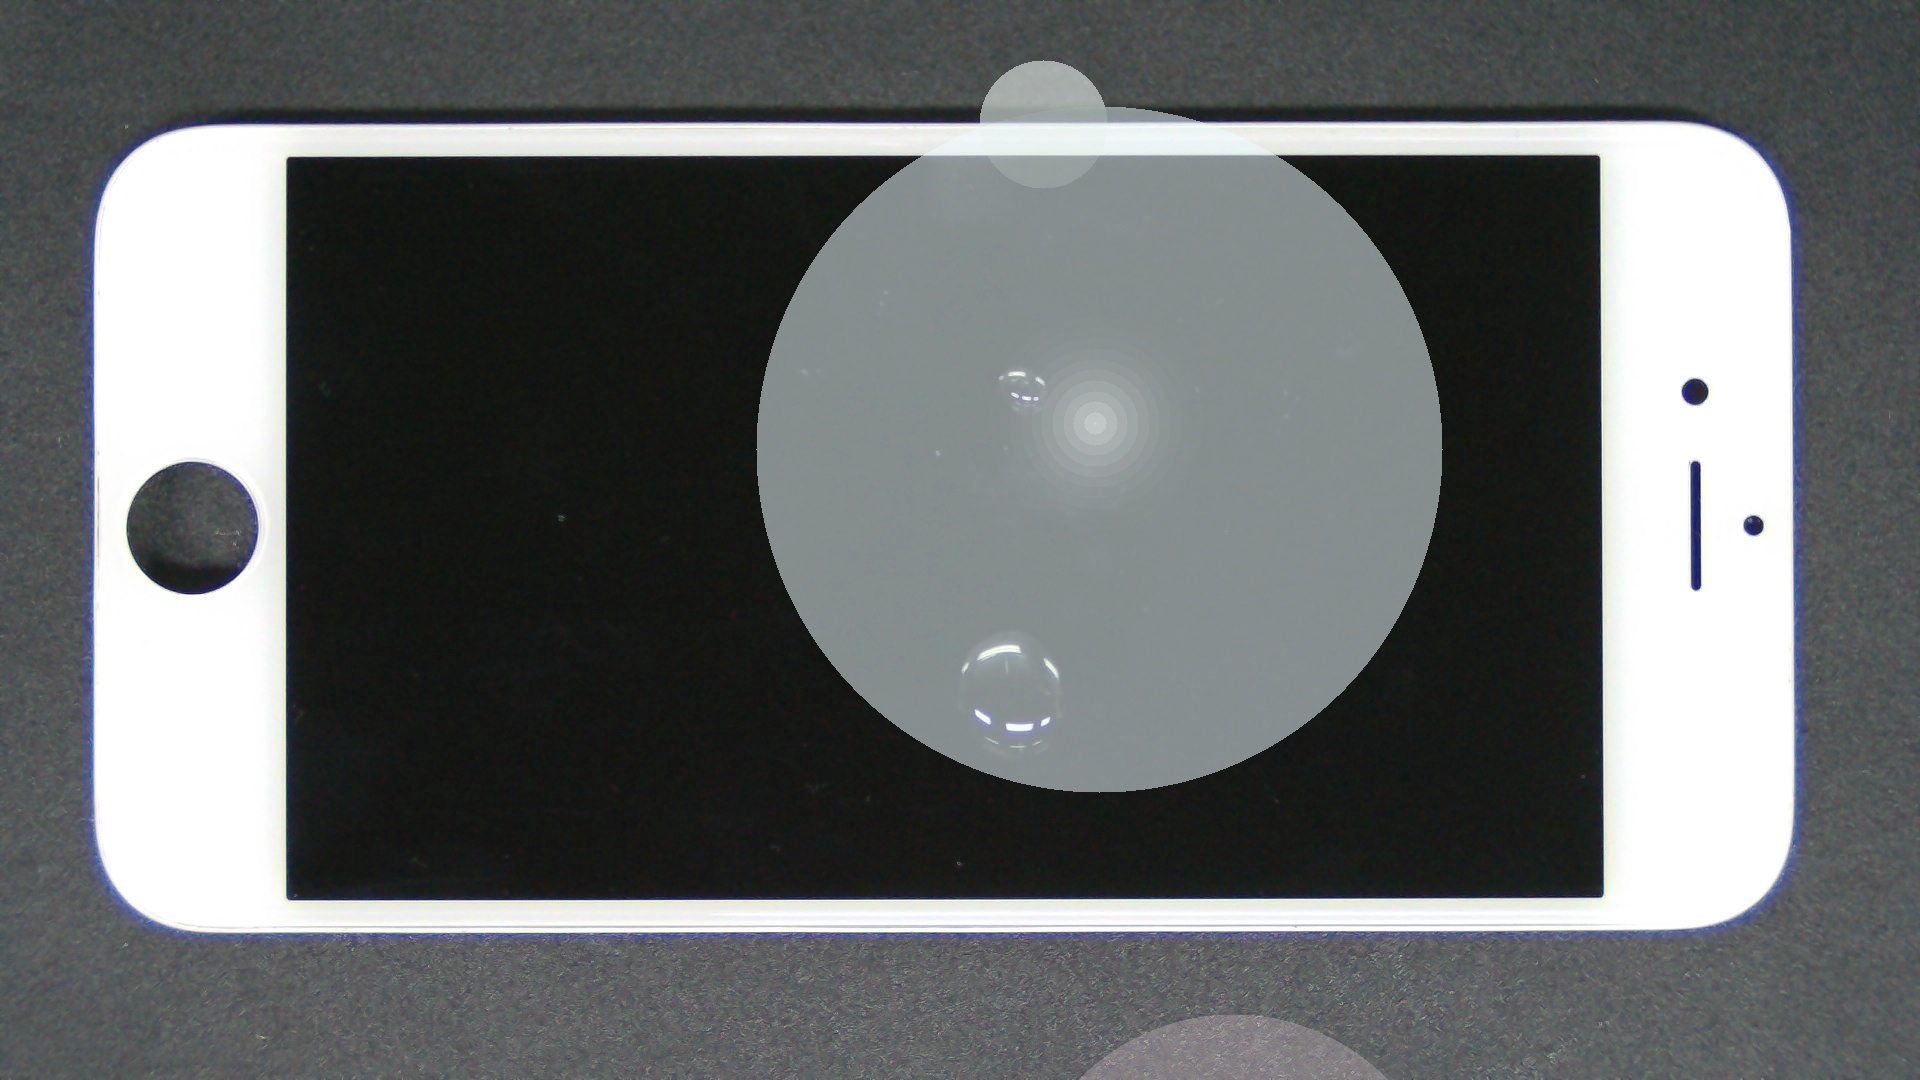oil: (505, 314, 1514, 945), (508, 183, 1520, 553)
